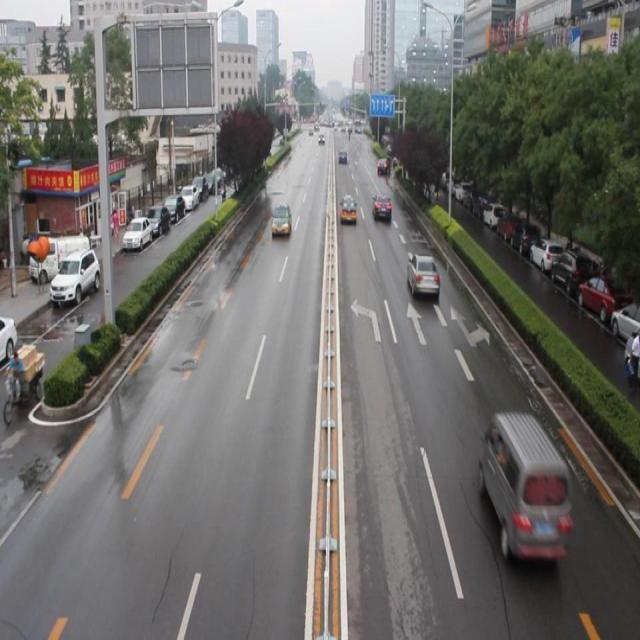car: (406, 252, 439, 294), (270, 202, 292, 235), (371, 192, 391, 222), (338, 193, 356, 223), (376, 157, 390, 176)
truck: (478, 410, 572, 568)
